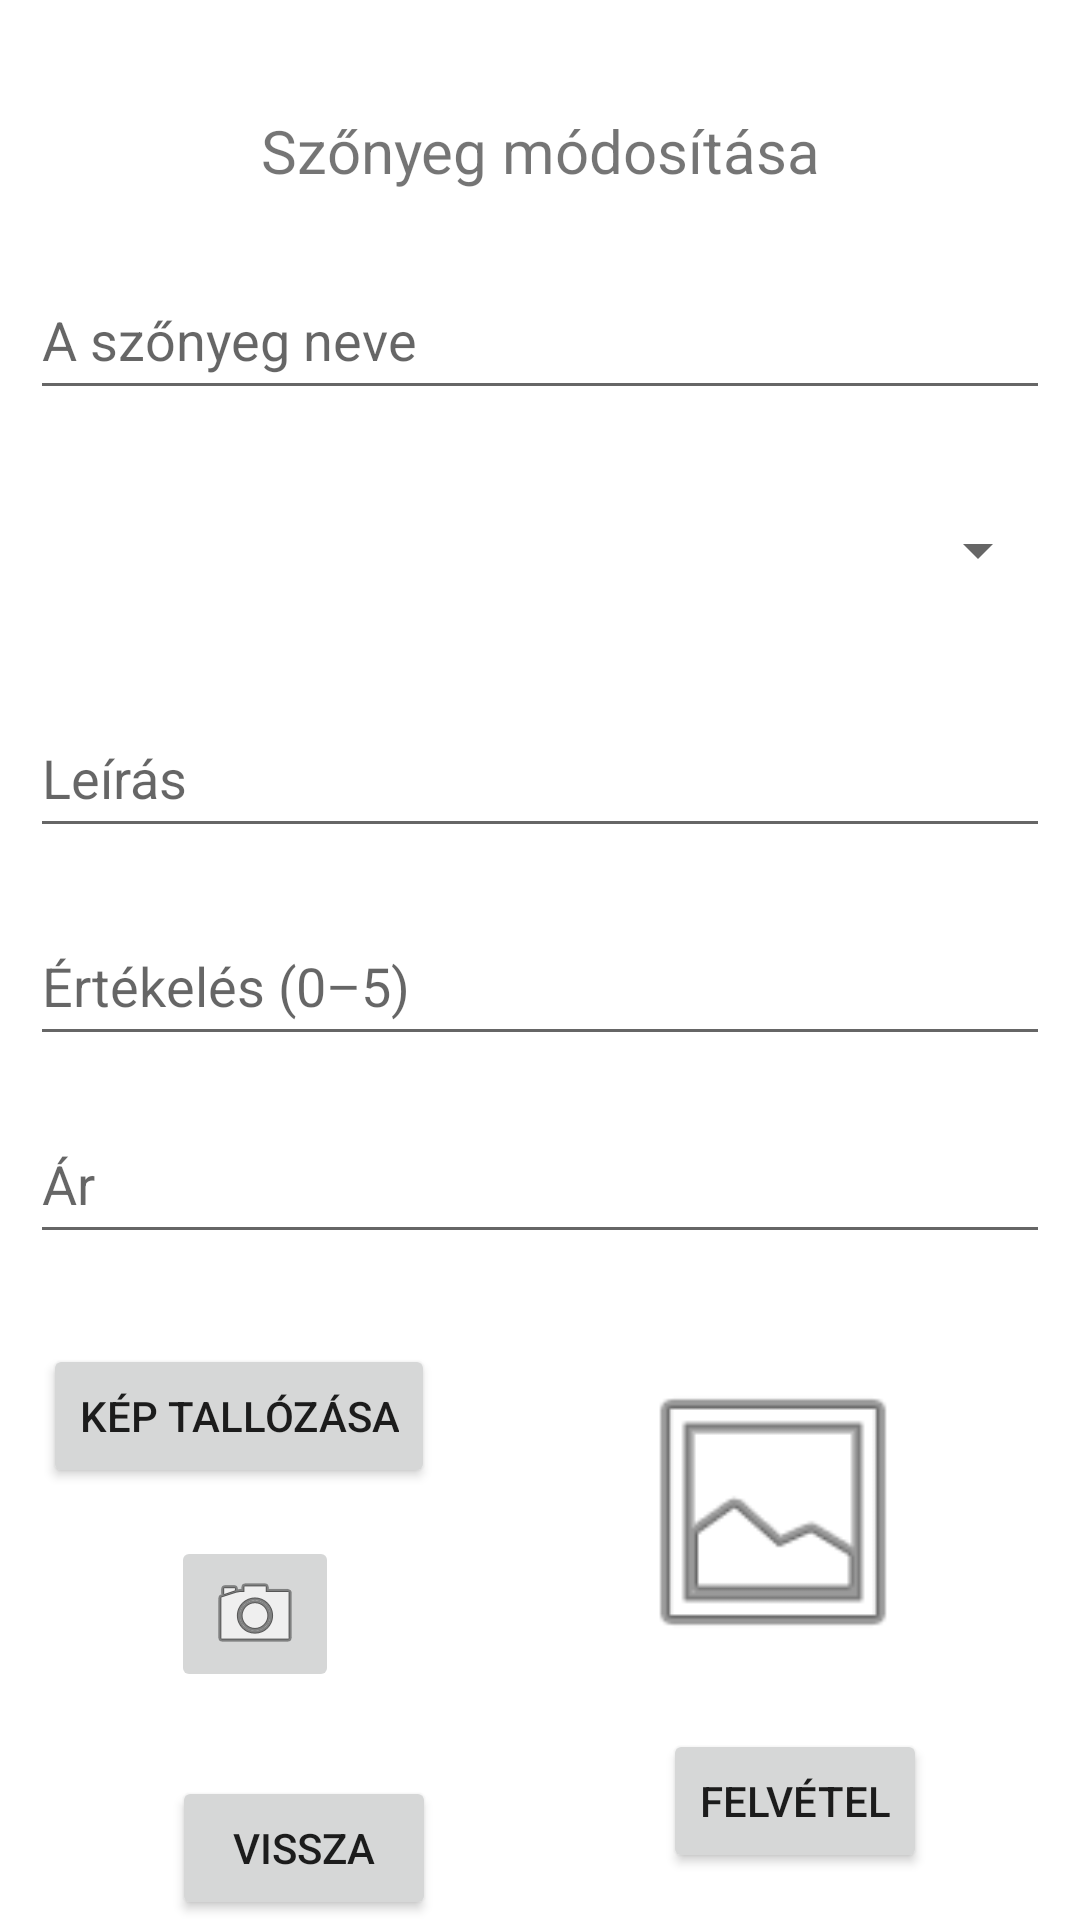

Point at icon controls on the screen. Image size 1080w x 1920h, points as [x,y].
Fotó: [255,1614]
gallery: [773,1512]
